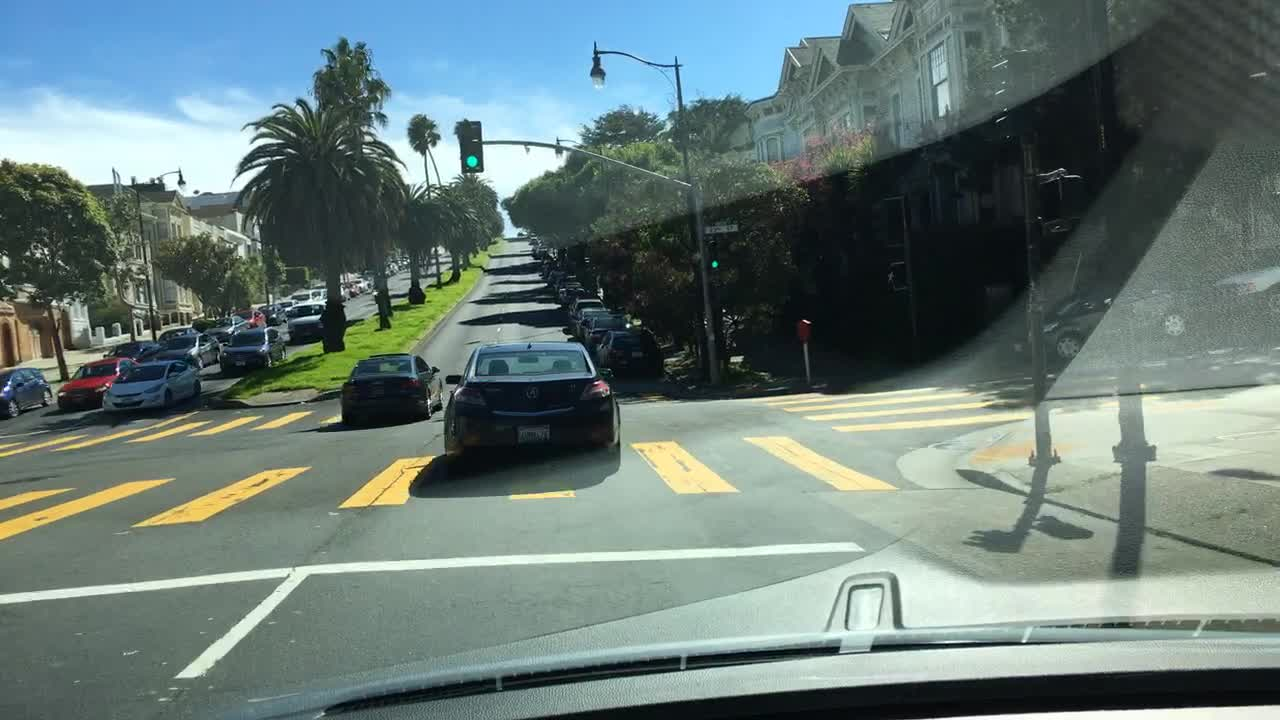car: (441, 339, 621, 464), (1013, 280, 1197, 361), (333, 351, 441, 425), (101, 359, 203, 419), (1209, 242, 1277, 324), (54, 357, 134, 414), (598, 327, 664, 384), (216, 326, 290, 369), (0, 365, 53, 420), (155, 332, 219, 368), (576, 314, 628, 345), (285, 301, 323, 341), (568, 305, 610, 335), (110, 338, 156, 359), (234, 308, 266, 329), (287, 287, 323, 304), (207, 314, 242, 330), (260, 301, 284, 324), (567, 293, 601, 308), (544, 268, 573, 283), (559, 287, 586, 302), (188, 314, 210, 332), (538, 260, 564, 275), (553, 280, 579, 293), (348, 278, 369, 293), (529, 244, 549, 259), (535, 253, 555, 265), (337, 281, 348, 302), (384, 263, 397, 277), (396, 259, 406, 271)
traffic light: (1041, 173, 1084, 234), (991, 52, 1021, 138), (457, 118, 484, 175), (873, 197, 900, 245), (885, 263, 903, 289), (707, 245, 719, 278)
traffic sign: (701, 220, 739, 236)
